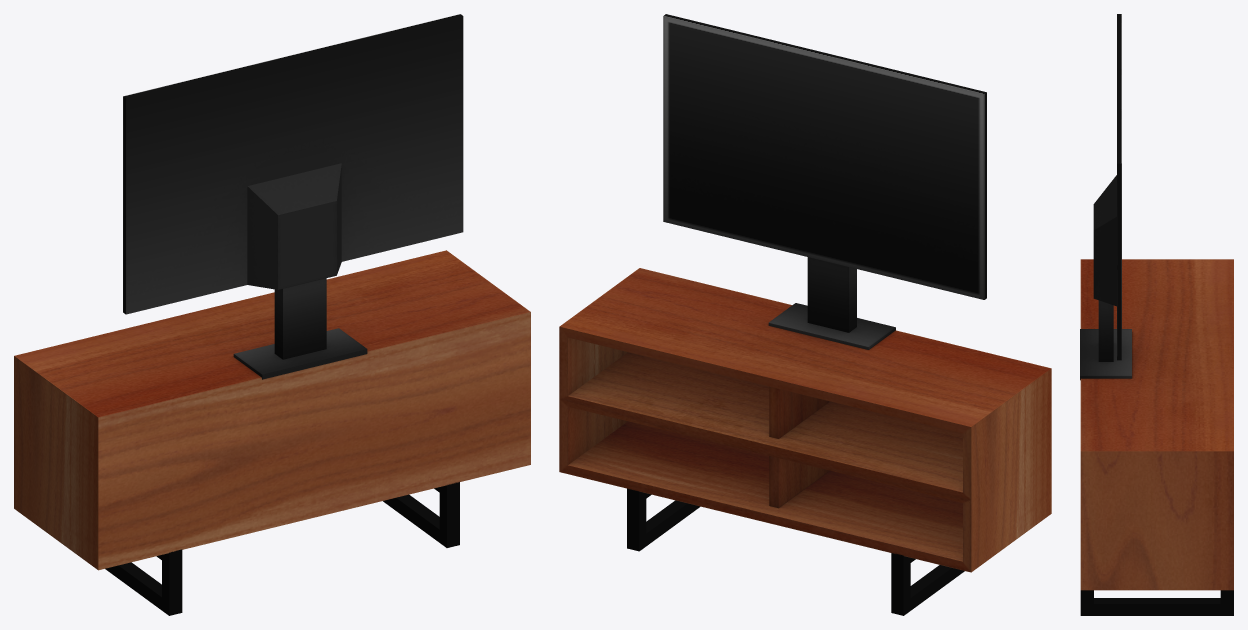
Rendered from ELT0110048.fbx.
The picture shows the model from 3 angles, left to right: view 1: azimuth 30°, elevation 25°; view 2: azimuth 150°, elevation 25°; view 3: azimuth 270°, elevation 25°; orthographic projection. The views are drawn at different scales.
Parts seen in each view (by area): view 1: smELT0110048; view 2: smELT0110048; view 3: smELT0110048.
Boxes of the visible parts, x1,y1,x2,y2 form: smELT0110048: (14, 14, 530, 615); smELT0110048: (559, 14, 1051, 615); smELT0110048: (1080, 14, 1233, 615).
Bounding box in the file's own units: 161 × 181 × 54.63.
1 material, 1 textured.
